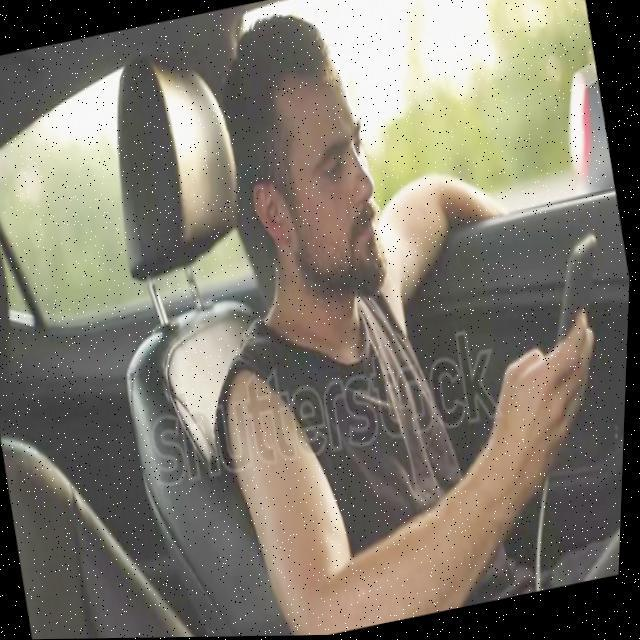PhoneCall: (548, 234, 620, 369)
